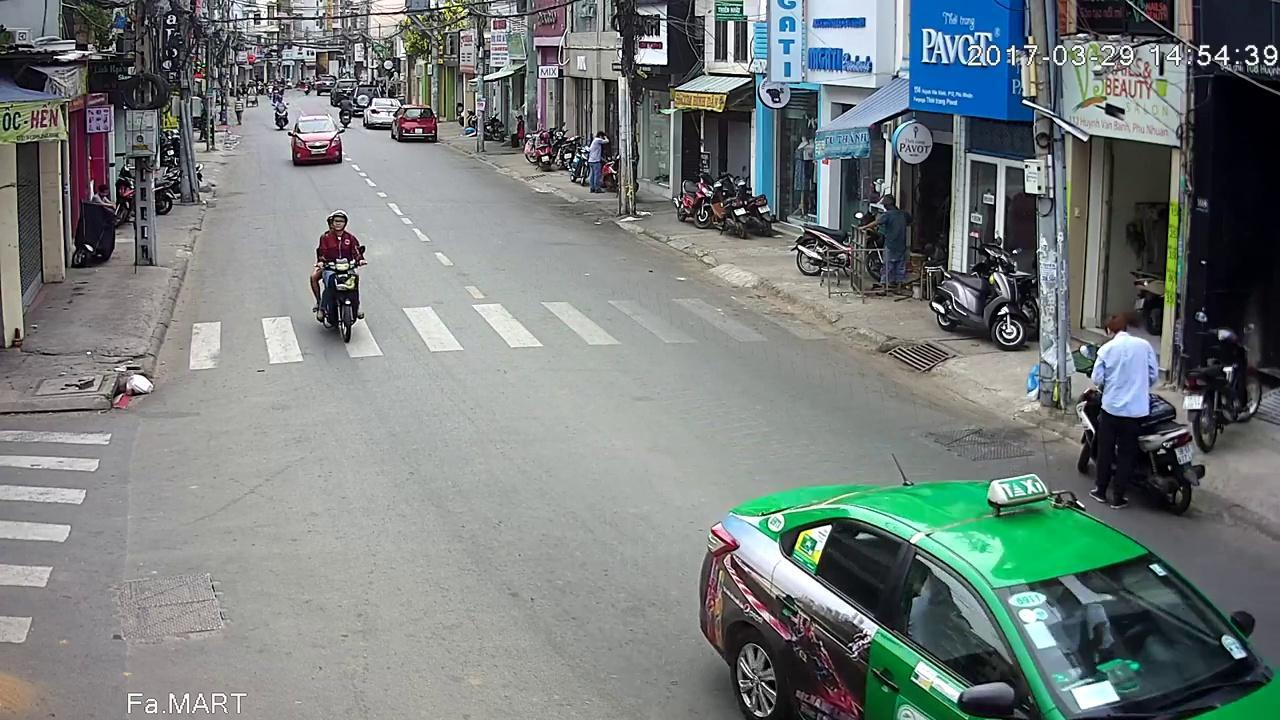xe hoi: (696, 441, 1280, 720), (288, 110, 348, 163), (391, 101, 437, 139)
xe may: (306, 204, 365, 335)
